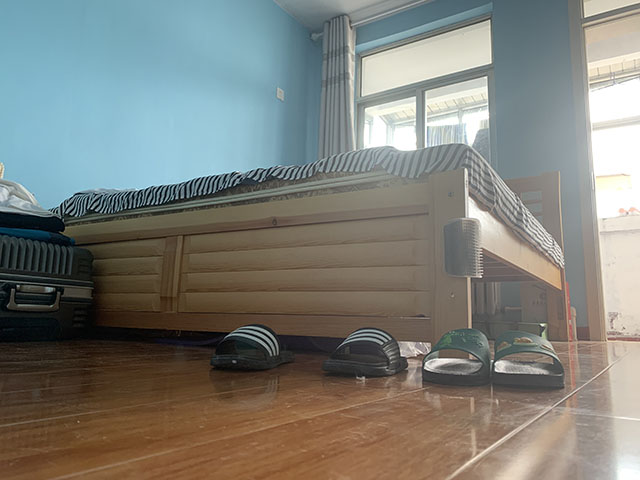bed: (46, 142, 572, 360)
slippers: (420, 328, 566, 392), (320, 327, 409, 378), (208, 324, 294, 372)
